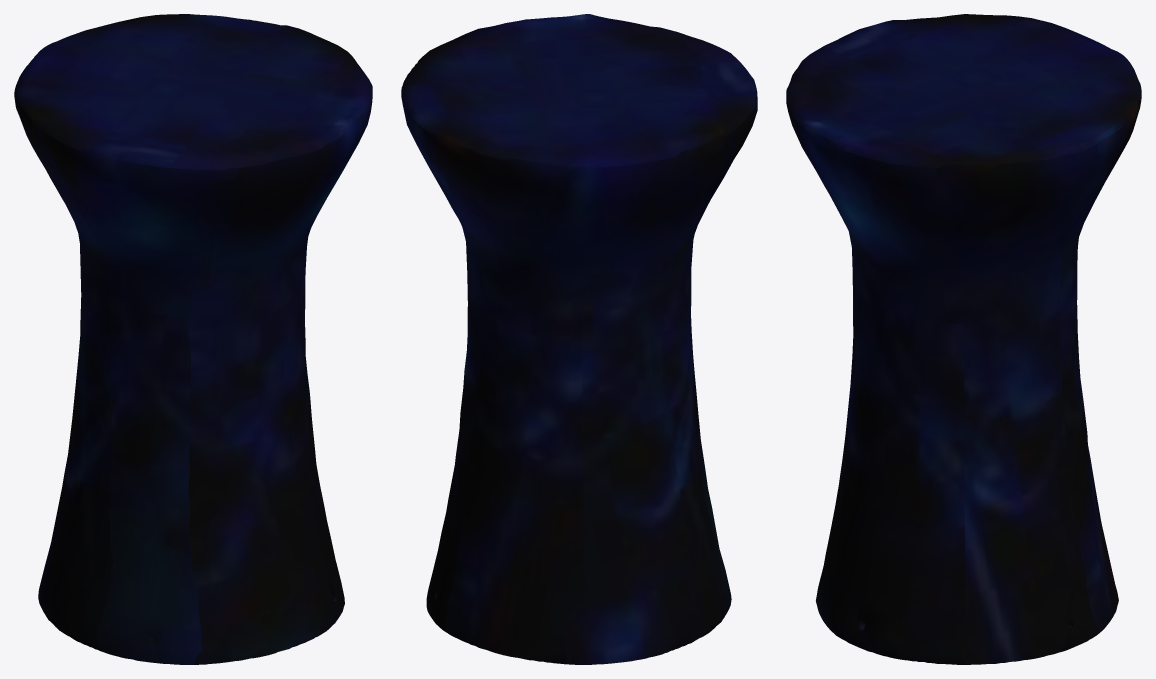
3 renders of one model, left to right at view 1: azimuth 30°, elevation 25°; view 2: azimuth 150°, elevation 25°; view 3: azimuth 270°, elevation 25°, orthographic.
Parts seen in each view (by area): view 1: world; view 2: world; view 3: world.
Part boxes in pixels (x1,y1,x2,y2): world: (14,14,372,664); world: (401,14,757,664); world: (786,14,1141,664).
Bounding box in the file's own units: 0.2683 × 0.4298 × 0.268.
Materials: 1 (1 with a texture image).
